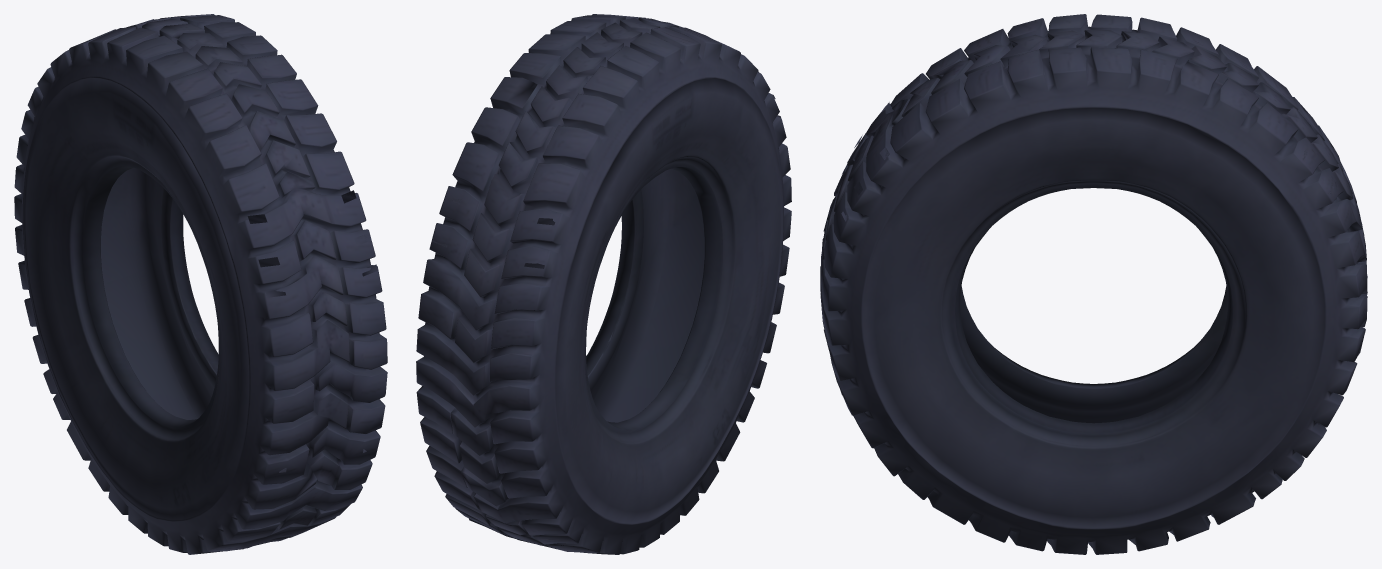
3 renders of one model, left to right at view 1: azimuth 30°, elevation 25°; view 2: azimuth 150°, elevation 25°; view 3: azimuth 270°, elevation 25°, orthographic. The views are drawn at different scales.
Parts seen in each view (by area): view 1: texture_pbr_v128.001; view 2: texture_pbr_v128.001; view 3: texture_pbr_v128.001.
Part boxes in pixels (x1,y1,x2,y2): texture_pbr_v128.001: (14, 14, 387, 554); texture_pbr_v128.001: (416, 14, 791, 554); texture_pbr_v128.001: (820, 14, 1367, 554).
Size of the model in its own units: 34.57 by 118 by 118.
1 material, 1 textured.
